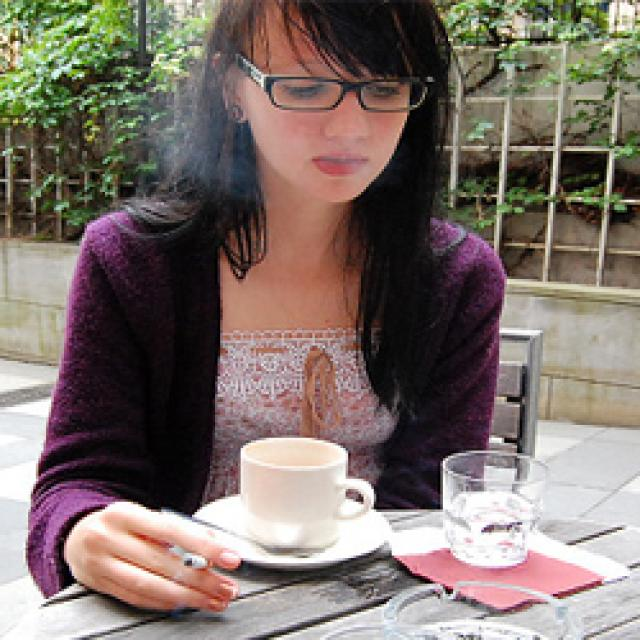Smooking: (175, 540, 215, 574)
